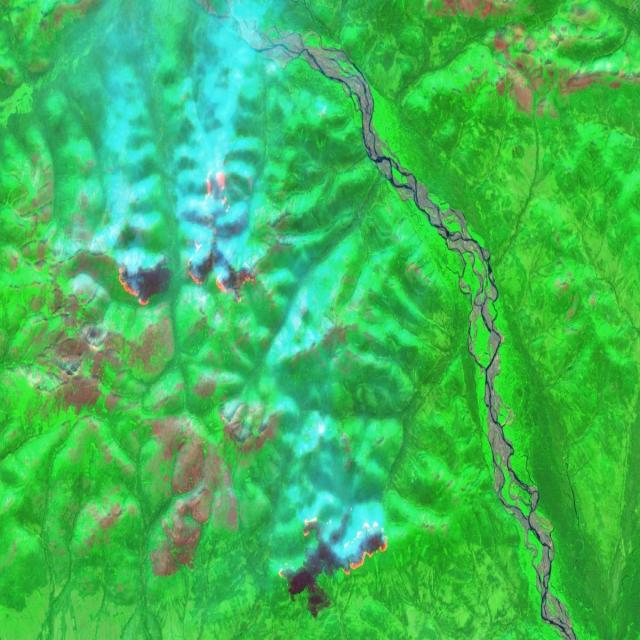fire: (110, 162, 256, 315), (270, 508, 391, 590)
